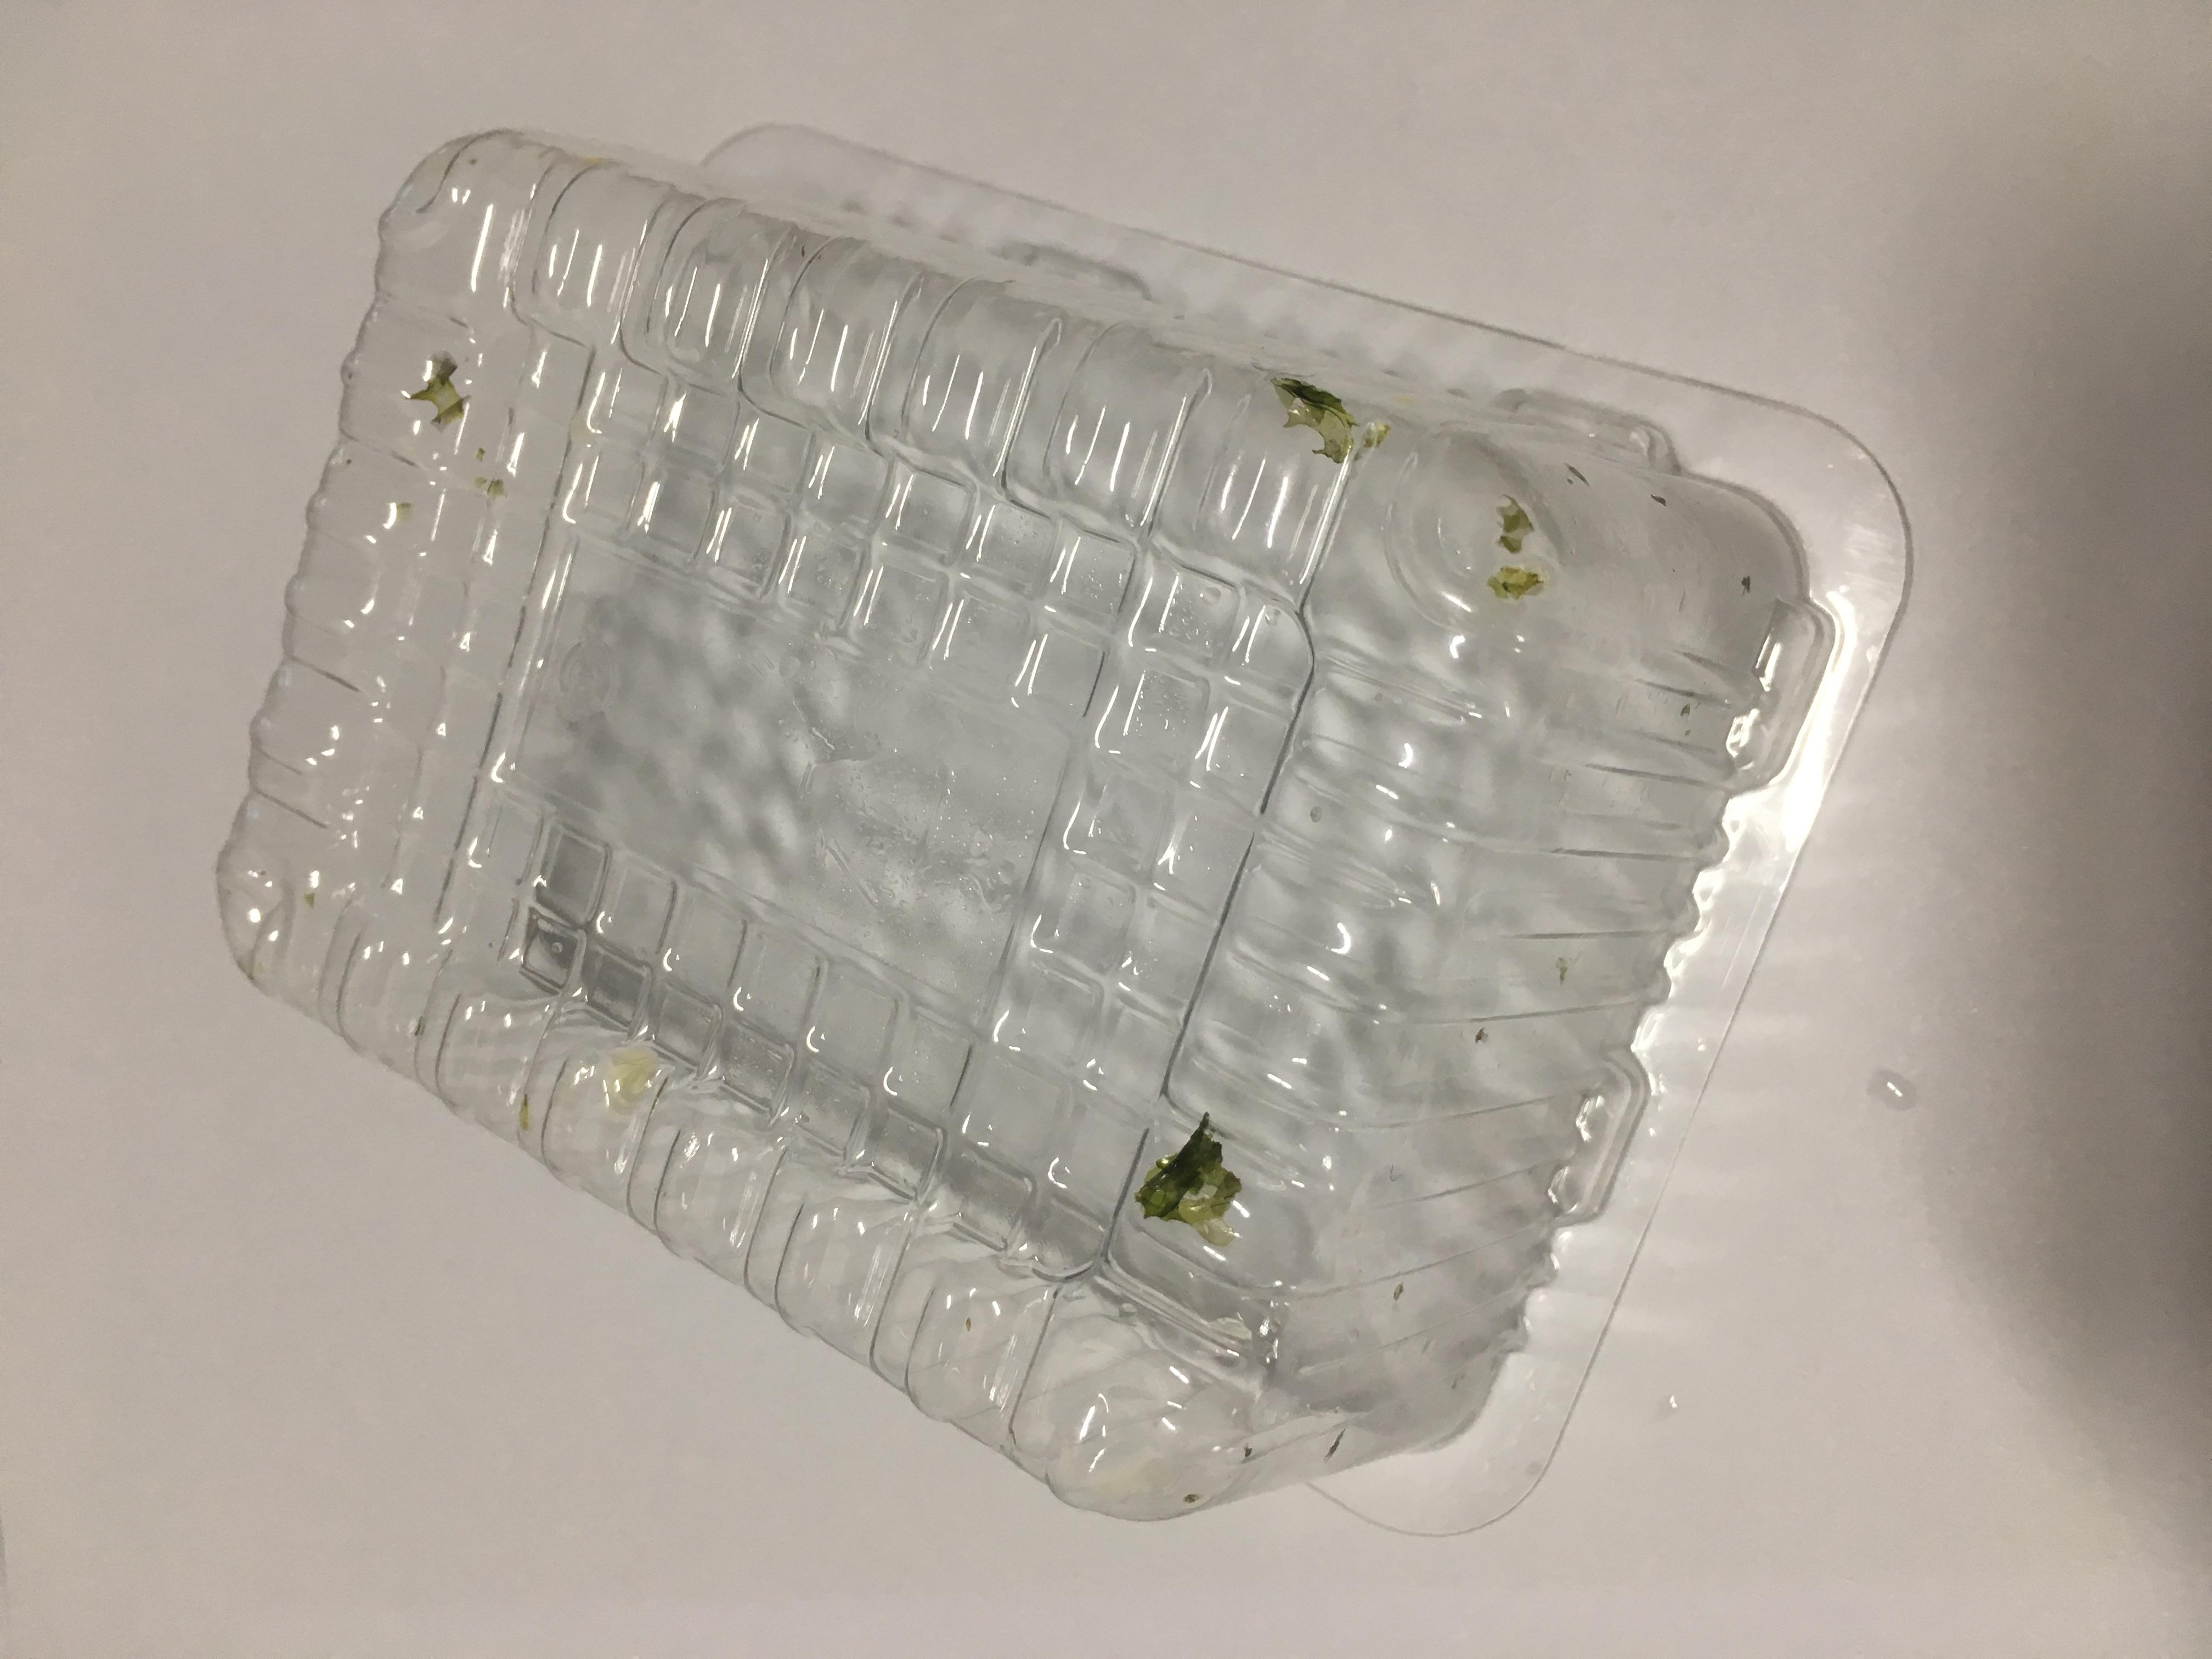bottle: (91, 157, 2212, 1471)
